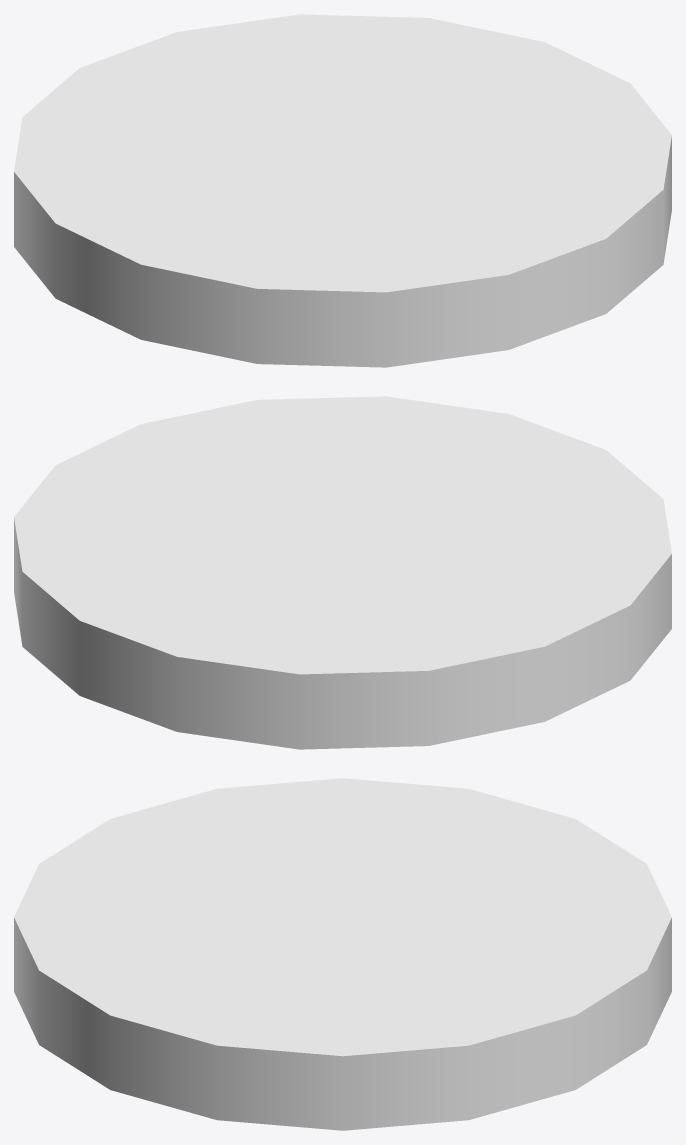
The model's file is Center.FBX.
The picture shows the model from 3 angles, top to bottom: view 1: azimuth 30°, elevation 25°; view 2: azimuth 150°, elevation 25°; view 3: azimuth 270°, elevation 25°; orthographic projection.
Visible parts, largest first — view 1: Cylinder001; view 2: Cylinder001; view 3: Cylinder001.
Boxes of the visible parts, x1,y1,x2,y2 form: Cylinder001: [14, 14, 671, 367]; Cylinder001: [14, 396, 671, 749]; Cylinder001: [14, 778, 671, 1130].
Size of the model in its own units: 6.3 by 0.7874 by 6.3.
Materials: 1 (1 with a texture image).
